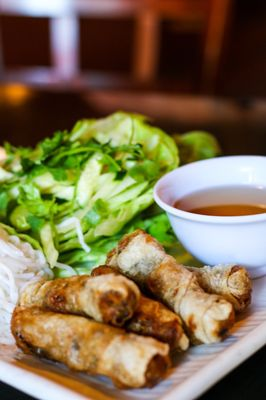soup: (10, 266, 191, 390)
sushi: (153, 155, 266, 272)
